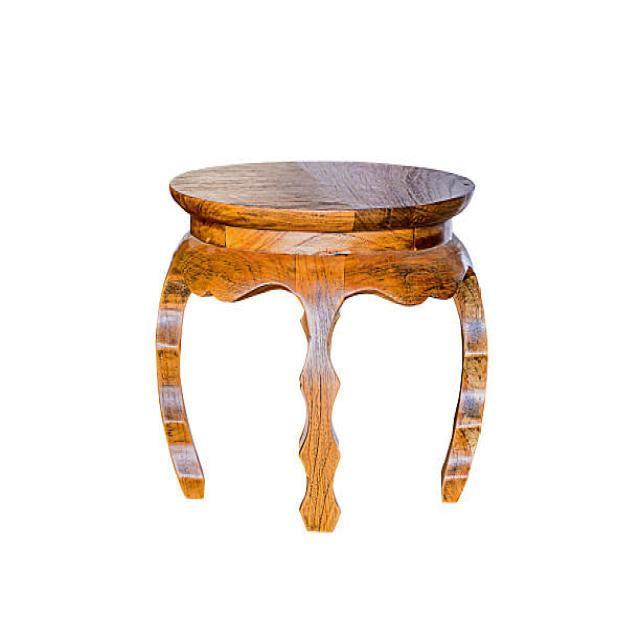table: (154, 158, 488, 532)
